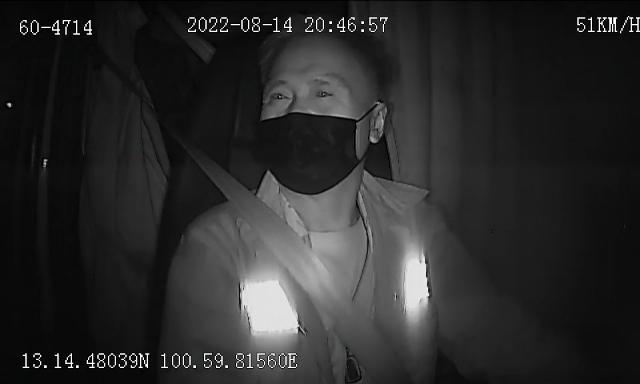SafeDriving: (263, 82, 296, 106), (308, 82, 342, 102)
Seatbelt: (180, 138, 406, 384)
